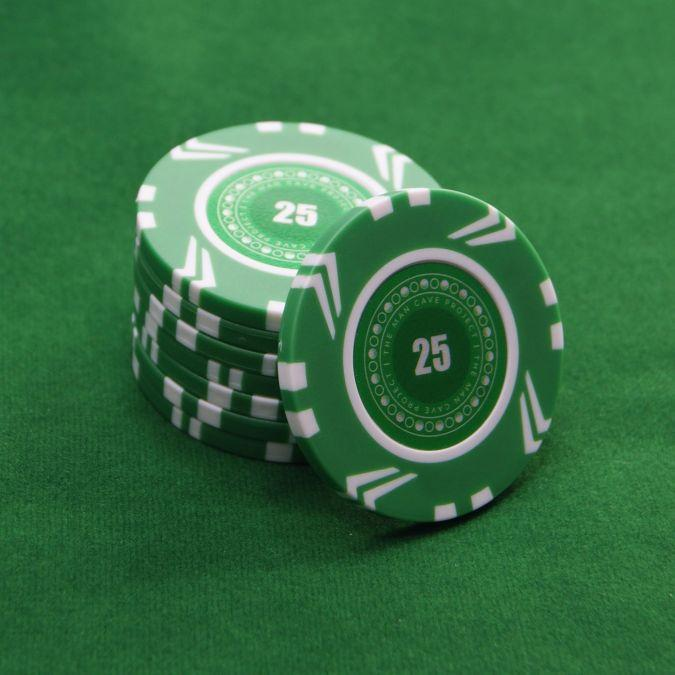chip-green: (278, 189, 564, 521)
